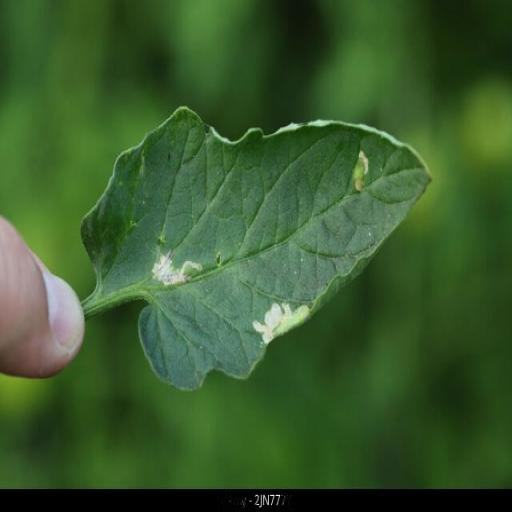Leaf Miner: (76, 102, 436, 394)
